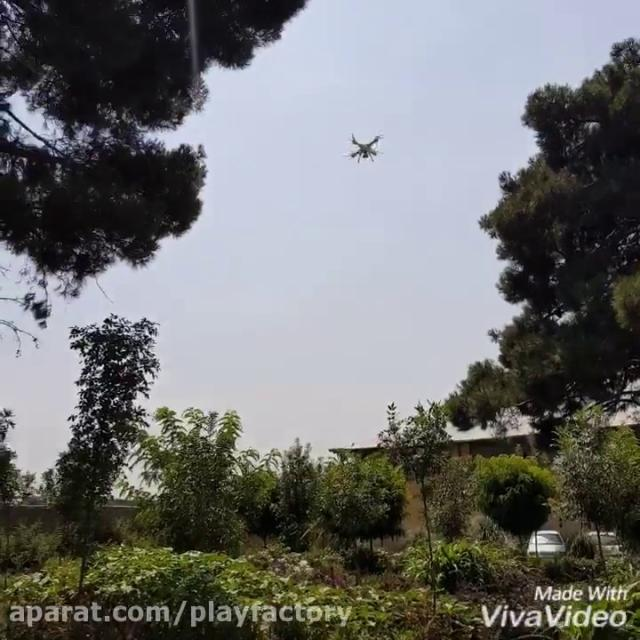drone: (340, 127, 390, 165)
